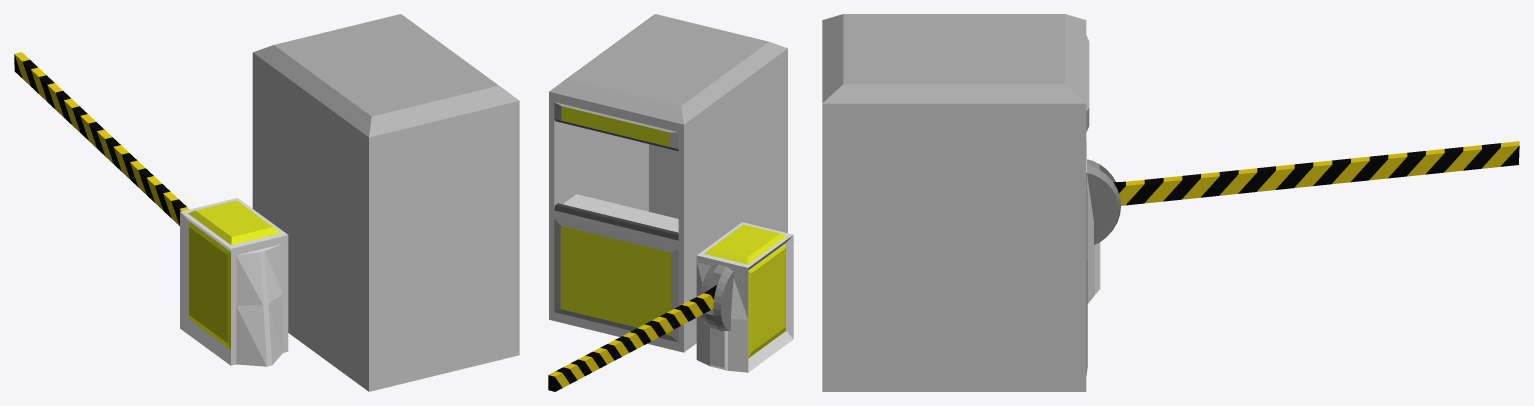
The model's file is tollbooth.glb.
3 renders of one model, left to right at view 1: azimuth 30°, elevation 25°; view 2: azimuth 150°, elevation 25°; view 3: azimuth 270°, elevation 25°, orthographic. The views are drawn at different scales.
Visible parts, largest first — view 1: Object_3, Object_4, Object_11, Object_10, Object_7, Object_8; view 2: Object_3, Object_4, Object_5, Object_11, Object_10, Object_8, Object_7, Object_9, Object_2; view 3: Object_3, Object_4, Object_7, Object_8, Object_9, Object_11.
Boxes of the visible parts, <box> form: Object_3: <box>252,52,519,391</box>; Object_4: <box>253,14,519,137</box>; Object_11: <box>180,198,288,366</box>; Object_10: <box>188,200,280,349</box>; Object_7: <box>14,52,189,225</box>; Object_8: <box>14,55,186,225</box>; Object_3: <box>549,49,787,352</box>; Object_4: <box>549,14,787,342</box>; Object_5: <box>560,106,670,335</box>; Object_11: <box>696,222,793,372</box>; Object_10: <box>704,224,786,358</box>; Object_8: <box>548,285,716,391</box>; Object_7: <box>549,293,713,387</box>; Object_9: <box>700,264,733,331</box>; Object_2: <box>554,119,678,240</box>; Object_3: <box>822,103,1086,391</box>; Object_4: <box>822,14,1089,375</box>; Object_7: <box>1119,141,1519,205</box>; Object_8: <box>1113,143,1519,205</box>; Object_9: <box>1087,159,1120,244</box>; Object_11: <box>1086,141,1100,303</box>.
Size of the model in its own units: 2.21 by 2.56 by 5.28.
